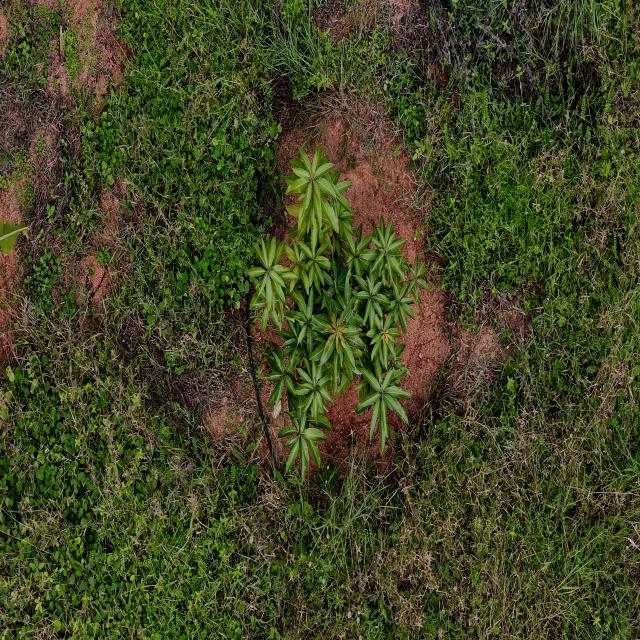mangoTree: (246, 144, 432, 490)
